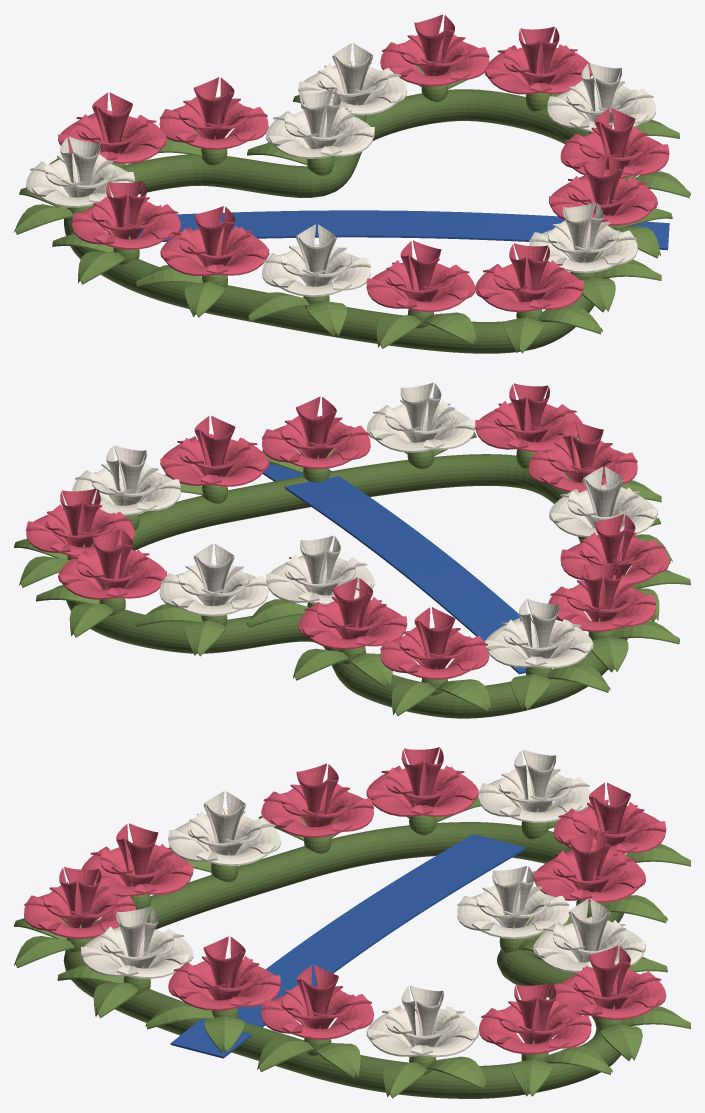
3 views of the same model, one above another, from view 1: azimuth 30°, elevation 25°; view 2: azimuth 150°, elevation 25°; view 3: azimuth 270°, elevation 25° (orthographic). The views are drawn at different scales.
Visible parts, largest first — view 1: Generic continuous hidden backing ring, Plain integrated diagonal ribbon, Flower 07 attached leaf 1, Flower 05 attached leaf 1, Flower 07 attached leaf -1, Flower 03 attached leaf 1, Flower 04 attached leaf 1, Flower 06 attached leaf -1, Flower 08 attached leaf -1, Flower 06 attached leaf 1, Flower 08 attached leaf 1, Flower 09 attached leaf -1 (+57 smaller); view 2: Generic continuous hidden backing ring, Plain integrated diagonal ribbon, Flower 02 attached leaf 1, Flower 03 attached leaf -1, Flower 01 attached leaf -1, Flower 02 attached leaf -1, Flower 15 attached leaf 1, Flower 14 attached leaf 1, Flower 03 attached leaf 1, Flower 04 attached leaf -1, Flower 00 attached leaf -1, Flower 13 attached leaf 1 (+56 smaller); view 3: Generic continuous hidden backing ring, Plain integrated diagonal ribbon, Flower 12 attached leaf 1, Flower 11 attached leaf -1, Flower 08 attached leaf 1, Flower 13 attached leaf -1, Flower 10 attached leaf 1, Flower 11 attached leaf 1, Flower 12 attached leaf -1, Flower 14 attached leaf -1, Flower 09 attached leaf 1, Flower 13 attached leaf 1 (+61 smaller).
Part boxes in pixels (x1,y1,x2,y2): Generic continuous hidden backing ring: (64,89,609,353); Plain integrated diagonal ribbon: (108,210,669,250); Flower 07 attached leaf 1: (423,312,476,344); Flower 05 attached leaf 1: (184,281,224,317); Flower 07 attached leaf -1: (377,315,421,348); Flower 03 attached leaf 1: (14,204,73,234); Flower 04 attached leaf 1: (78,251,125,284); Flower 06 attached leaf -1: (247,292,309,321); Flower 08 attached leaf -1: (504,317,543,353); Flower 06 attached leaf 1: (306,300,347,336); Flower 08 attached leaf 1: (538,306,602,334); Flower 09 attached leaf -1: (581,276,615,312); Generic continuous hidden backing ring: (66,454,627,718); Plain integrated diagonal ribbon: (263,453,526,674); Flower 02 attached leaf 1: (437,679,491,711); Flower 03 attached leaf -1: (511,673,551,709); Flower 01 attached leaf -1: (293,648,348,680); Flower 02 attached leaf -1: (391,682,435,716); Flower 15 attached leaf 1: (185,620,225,656); Flower 14 attached leaf 1: (69,603,113,637); Flower 03 attached leaf 1: (546,664,610,692); Flower 04 attached leaf -1: (591,636,628,672); Flower 00 attached leaf -1: (247,599,308,627); Flower 13 attached leaf 1: (19,556,69,587); Generic continuous hidden backing ring: (63,822,623,1098); Plain integrated diagonal ribbon: (170,834,525,1058); Flower 12 attached leaf 1: (427,1056,487,1089); Flower 11 attached leaf -1: (257,1039,314,1072); Flower 08 attached leaf 1: (14,936,75,968); Flower 13 attached leaf -1: (511,1059,552,1096); Flower 10 attached leaf 1: (204,1015,245,1053); Flower 11 attached leaf 1: (315,1043,360,1078); Flower 12 attached leaf -1: (383,1062,426,1098); Flower 14 attached leaf -1: (600,1024,642,1060); Flower 09 attached leaf 1: (93,982,138,1018); Flower 13 attached leaf 1: (544,1046,612,1074).
Size of the model in its own units: 52.25 by 8.27 by 49.23.
